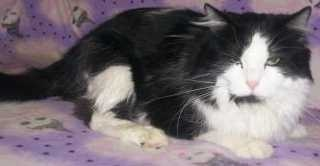Cat: (76, 4, 312, 156)
